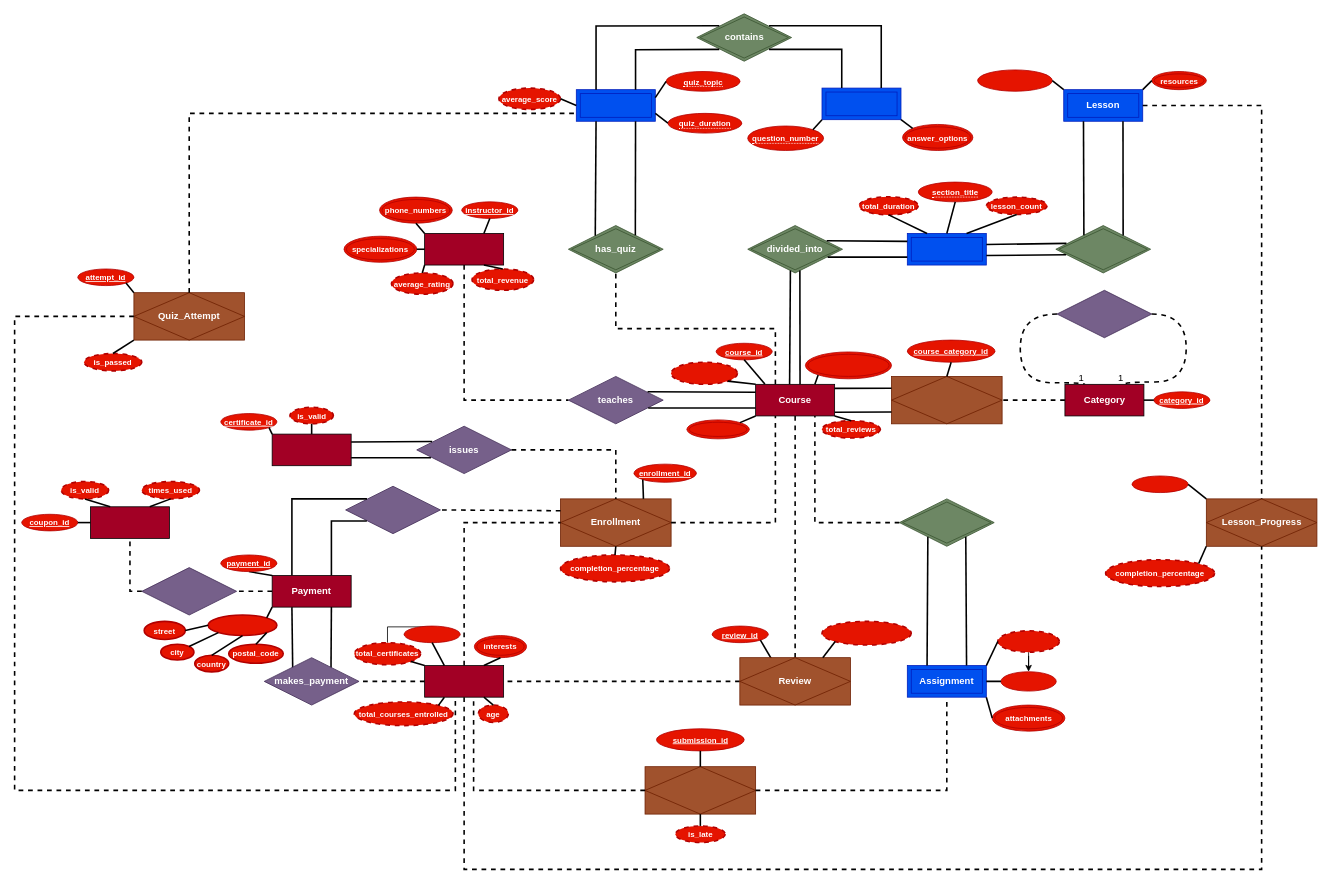
The diagram is 1330 pixels wide and 885 high, and some of its shapes have lost their labels. Here are the shapes that lost their labels. From the top down, the box of each, then its label:
(977, 69, 1052, 91): lesson_title
(576, 89, 655, 121): Quiz
(821, 87, 901, 120): Quiz_Question
(424, 233, 504, 265): Instructor
(907, 233, 986, 265): Section
(1055, 225, 1151, 273): has_lesson
(1056, 290, 1152, 338): has_parent
(670, 361, 738, 385): completion_rate
(805, 351, 892, 379): learning_outcomes
(891, 376, 1002, 424): Course_Category
(686, 419, 749, 439): requirements
(271, 433, 351, 466): Certificate
(1131, 475, 1188, 493): progress_id
(90, 506, 169, 538): Coupon
(345, 485, 440, 534): pays_for
(899, 498, 994, 546): includes
(141, 567, 237, 615): applied_to
(207, 614, 277, 636): billing_address
(403, 625, 460, 643): student_id
(821, 620, 912, 645): is_verified_purchase
(997, 630, 1060, 653): average_grade
(424, 665, 504, 697): Student
(1000, 671, 1056, 691): due_date
(644, 766, 756, 814): Submission
